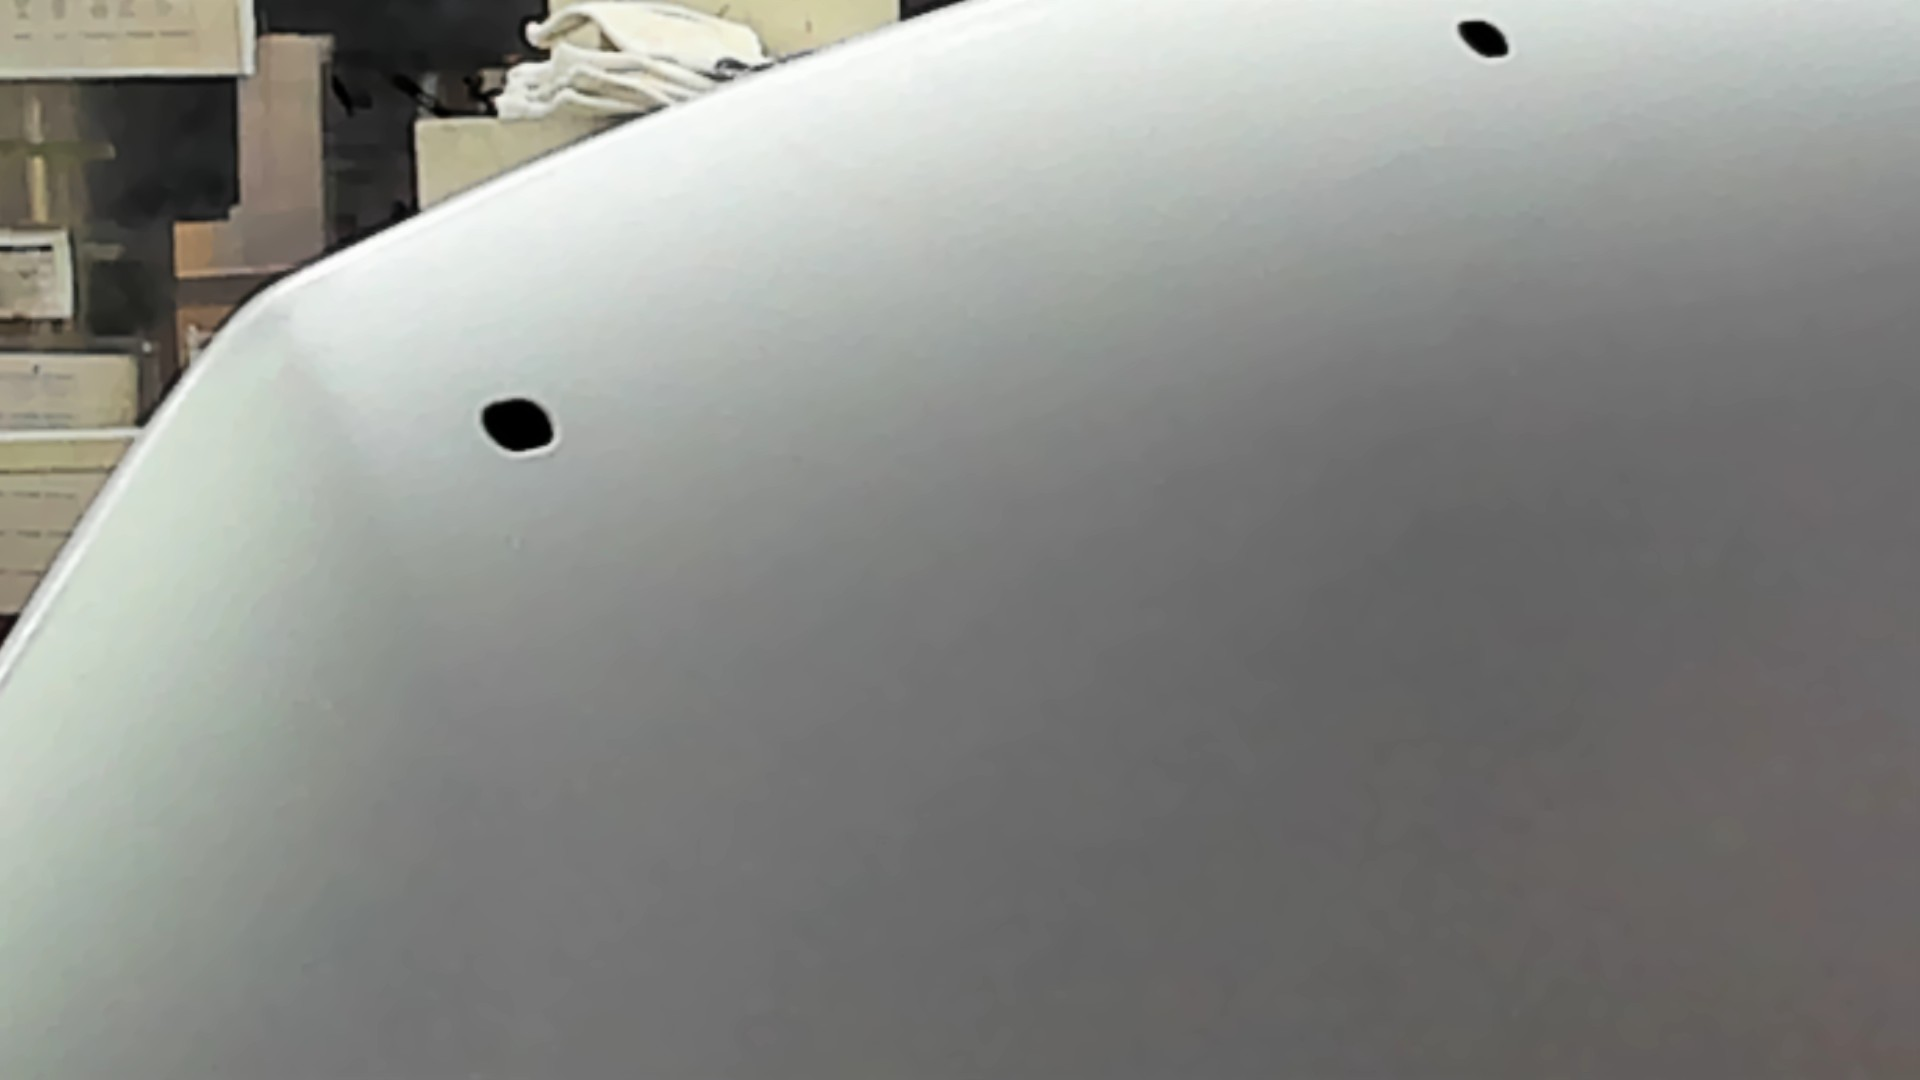amorfo: (477, 394, 568, 456), (1455, 15, 1518, 58)
